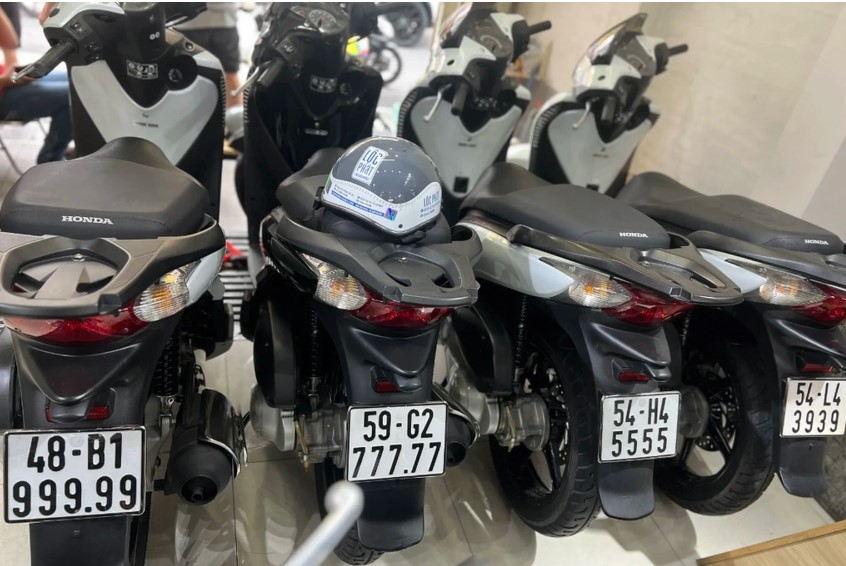bien_so: (0, 422, 151, 529), (339, 398, 453, 489), (593, 386, 687, 467), (777, 371, 845, 443)
